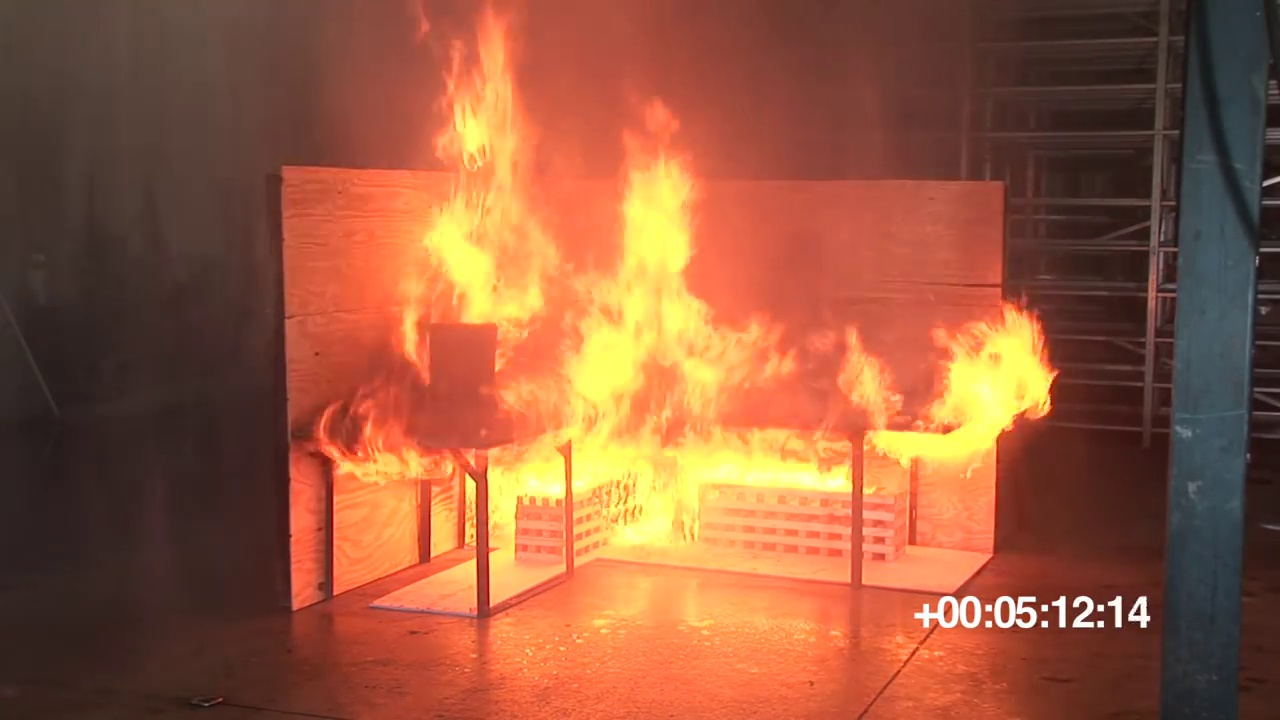fire: (535, 95, 791, 502), (389, 17, 537, 470), (804, 291, 1054, 462)
